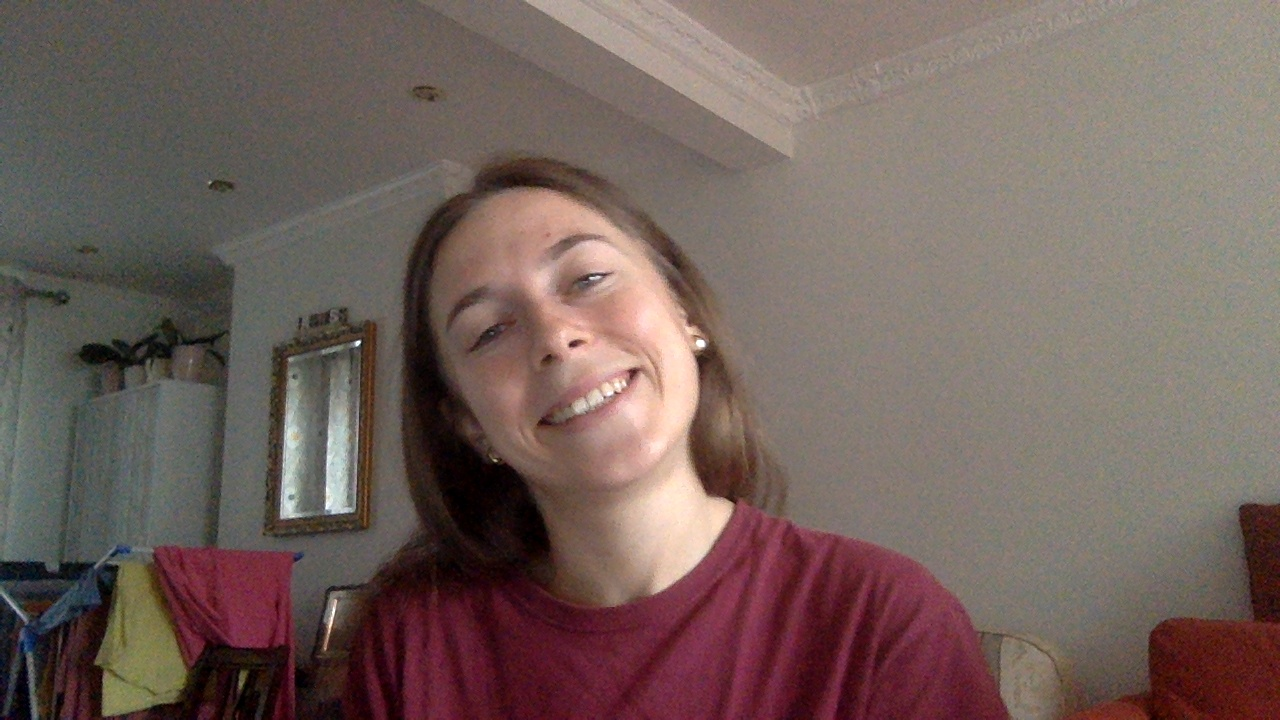smile: (537, 364, 642, 438)
